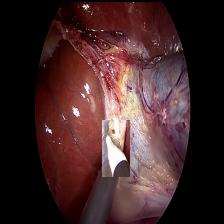Hook: (101, 119, 129, 176)
